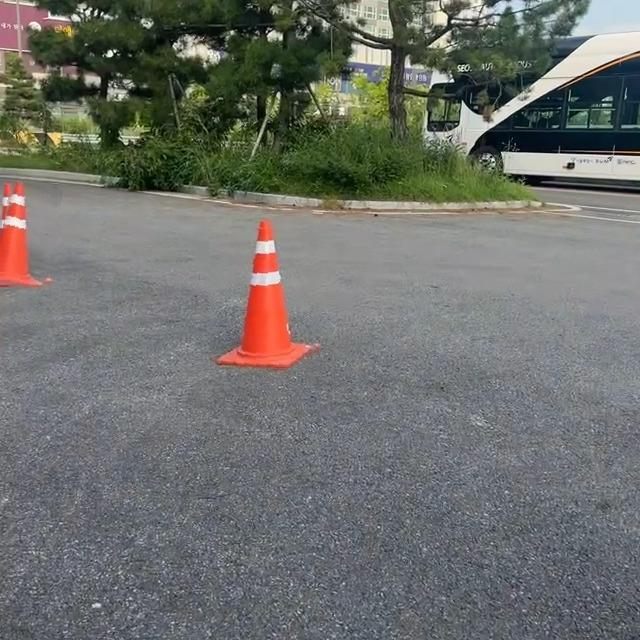fallen_object: (159, 256, 370, 384), (0, 169, 66, 290)
